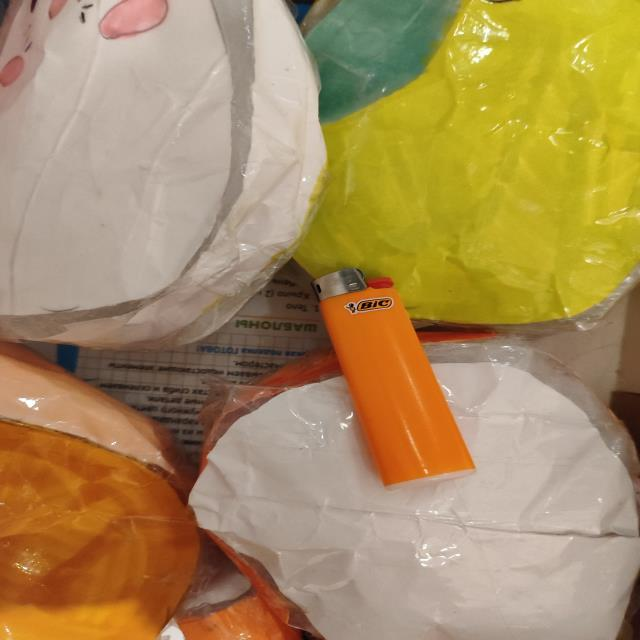lighter: (316, 268, 474, 485)
